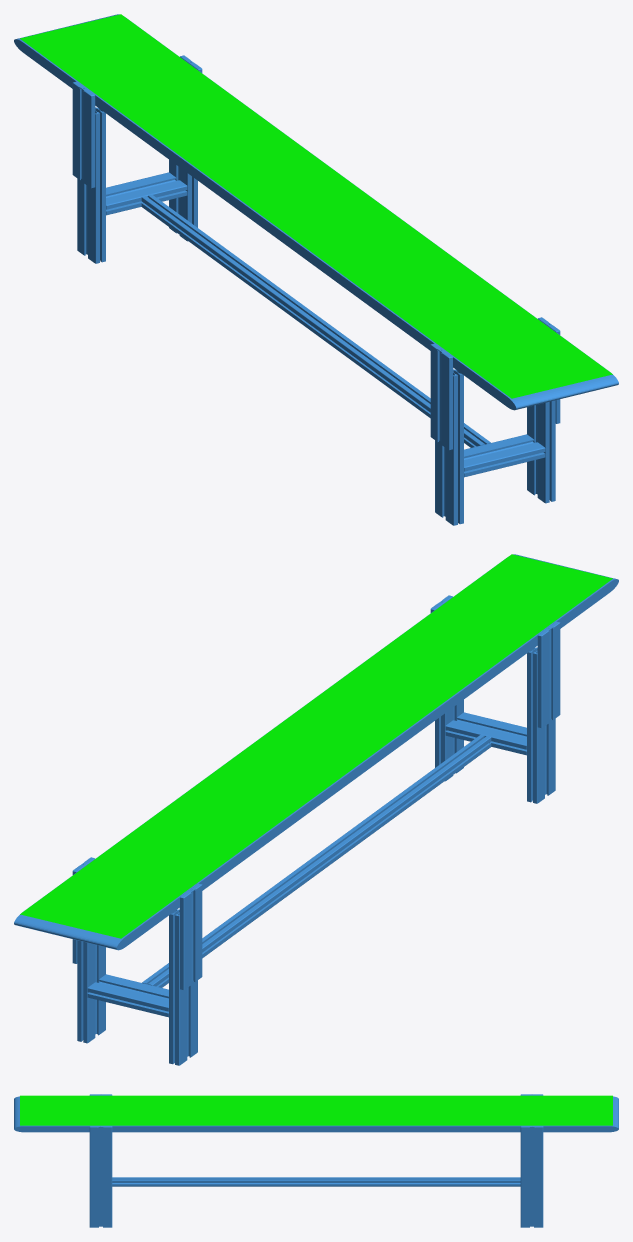
File: conveyor_belt.dae
The picture shows the model from 3 angles, top to bottom: view 1: azimuth 30°, elevation 25°; view 2: azimuth 150°, elevation 25°; view 3: azimuth 270°, elevation 25°; orthographic projection. The views are drawn at different scales.
Parts seen in each view (by area): view 1: green, conveyor_belt; view 2: green, conveyor_belt; view 3: green, conveyor_belt.
Boxes of the visible parts, bbox=[...] form: green: bbox=[20, 14, 612, 398]; conveyor_belt: bbox=[14, 14, 618, 525]; green: bbox=[20, 554, 612, 938]; conveyor_belt: bbox=[14, 554, 618, 1065]; green: bbox=[20, 1095, 612, 1125]; conveyor_belt: bbox=[14, 1094, 618, 1227].
Size of the model in its own units: 0.463 by 3.6 by 0.6692.
2 materials, 1 textured.
